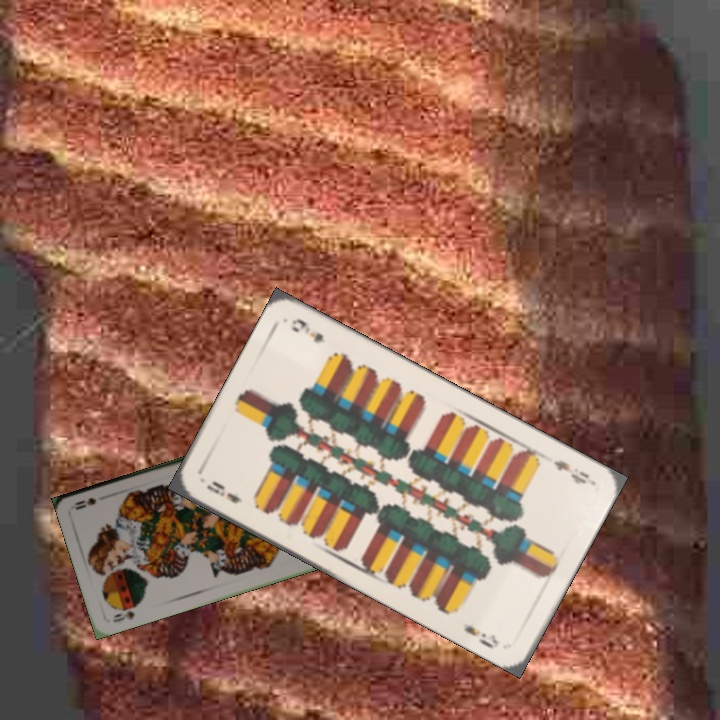E9: (549, 456, 596, 487), (202, 477, 246, 506)
SO: (109, 601, 140, 625)
